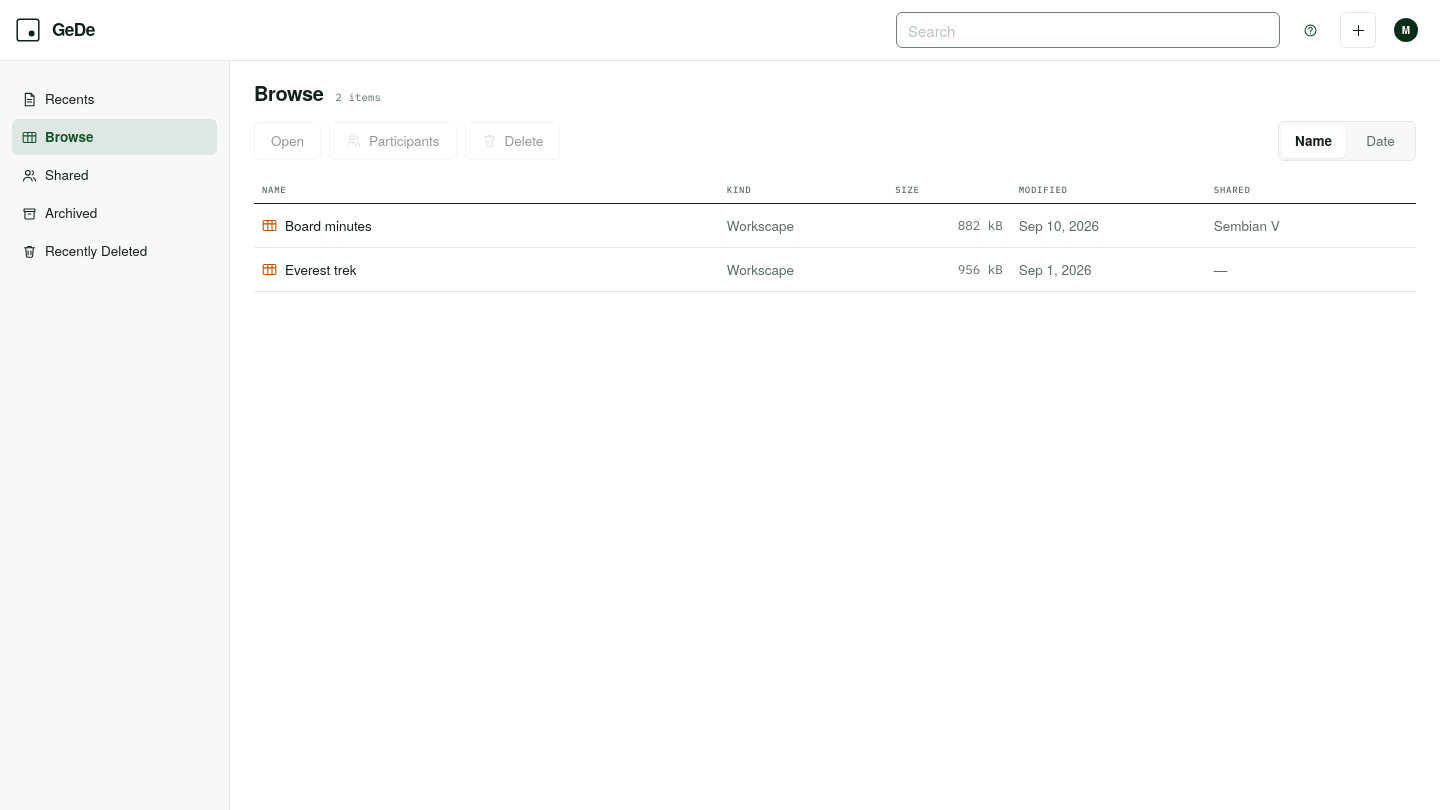
Test case: Library › LIB-05 Browse sorts by Name or Date and the choice persists per user
Expected: the text "Everest trek" is shown, [285,259,356,280]
Step 1. Click the radio button labelled "Date" → (1380, 141), box [1348,124,1413,158]
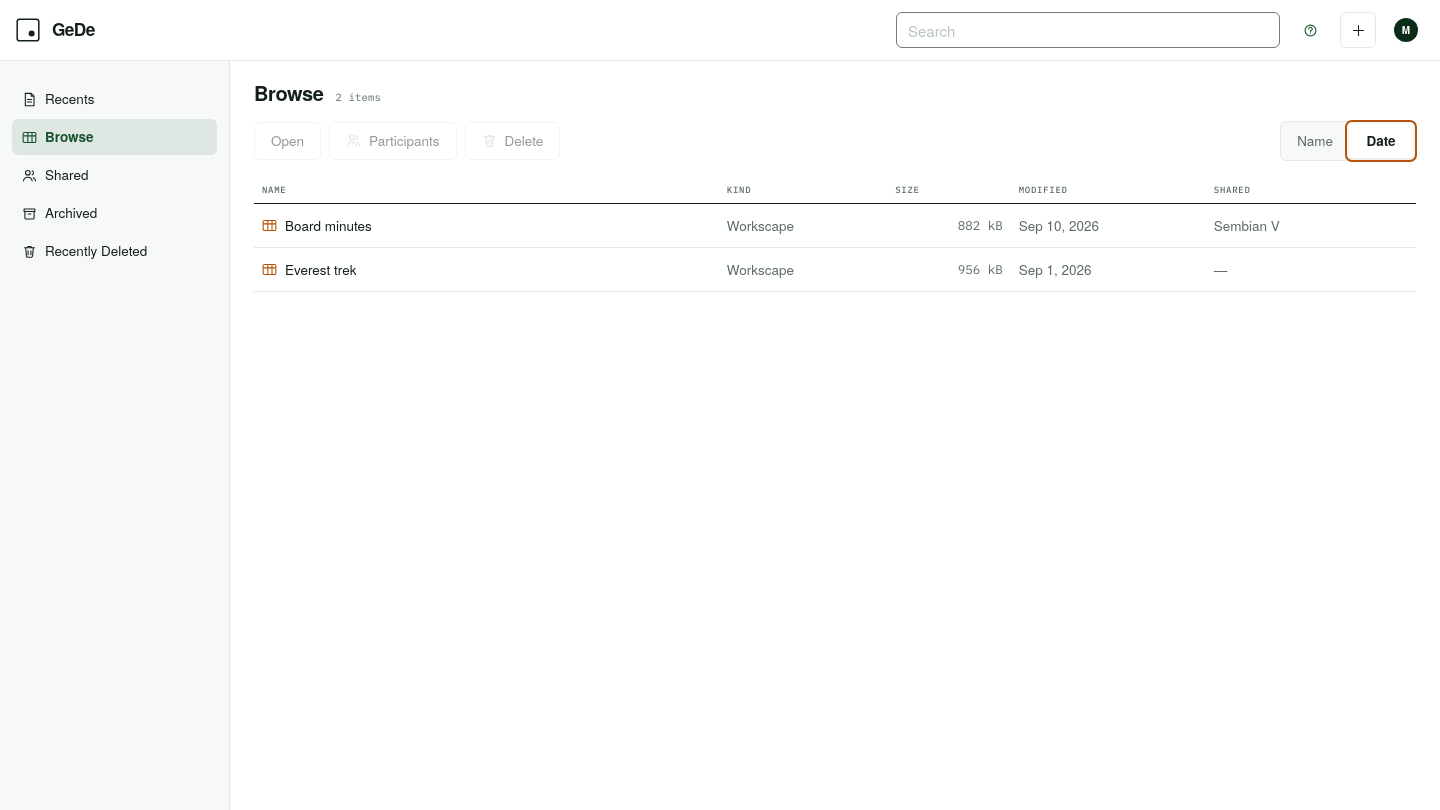
Expected: the row "Board minutes Workscape 882 kB Sep 10, 2026 Sembian V" is shown, [254,204,1416,248]
Step 2. Click the radio button labelled "Name" → (1315, 141), box [1283,124,1347,158]
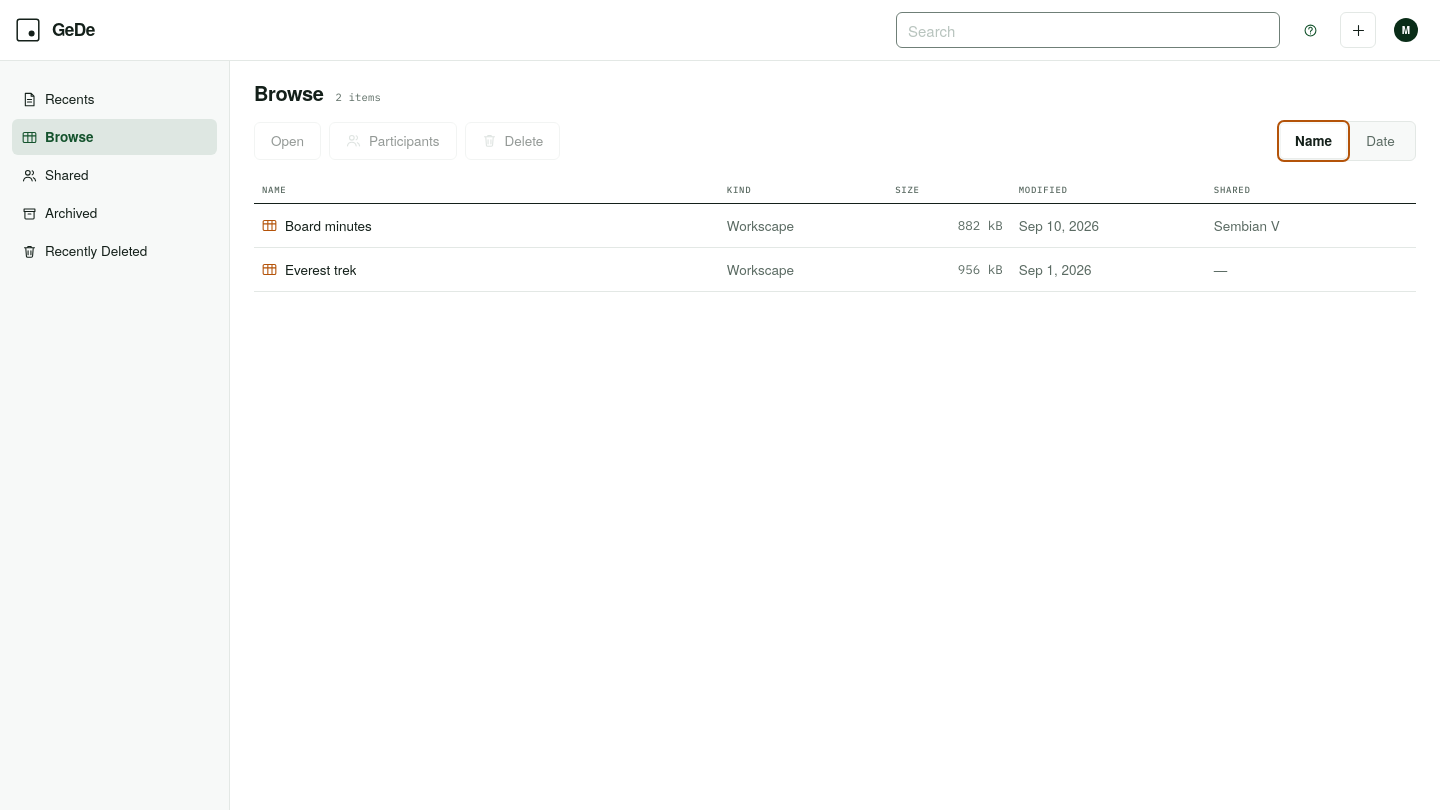
Expected: the radio button labelled "Date" is shown, [1348,124,1413,158]
Recents never offers a sort.
Step 3. Click the button "Recents" → (114, 99), box [12,81,217,117]
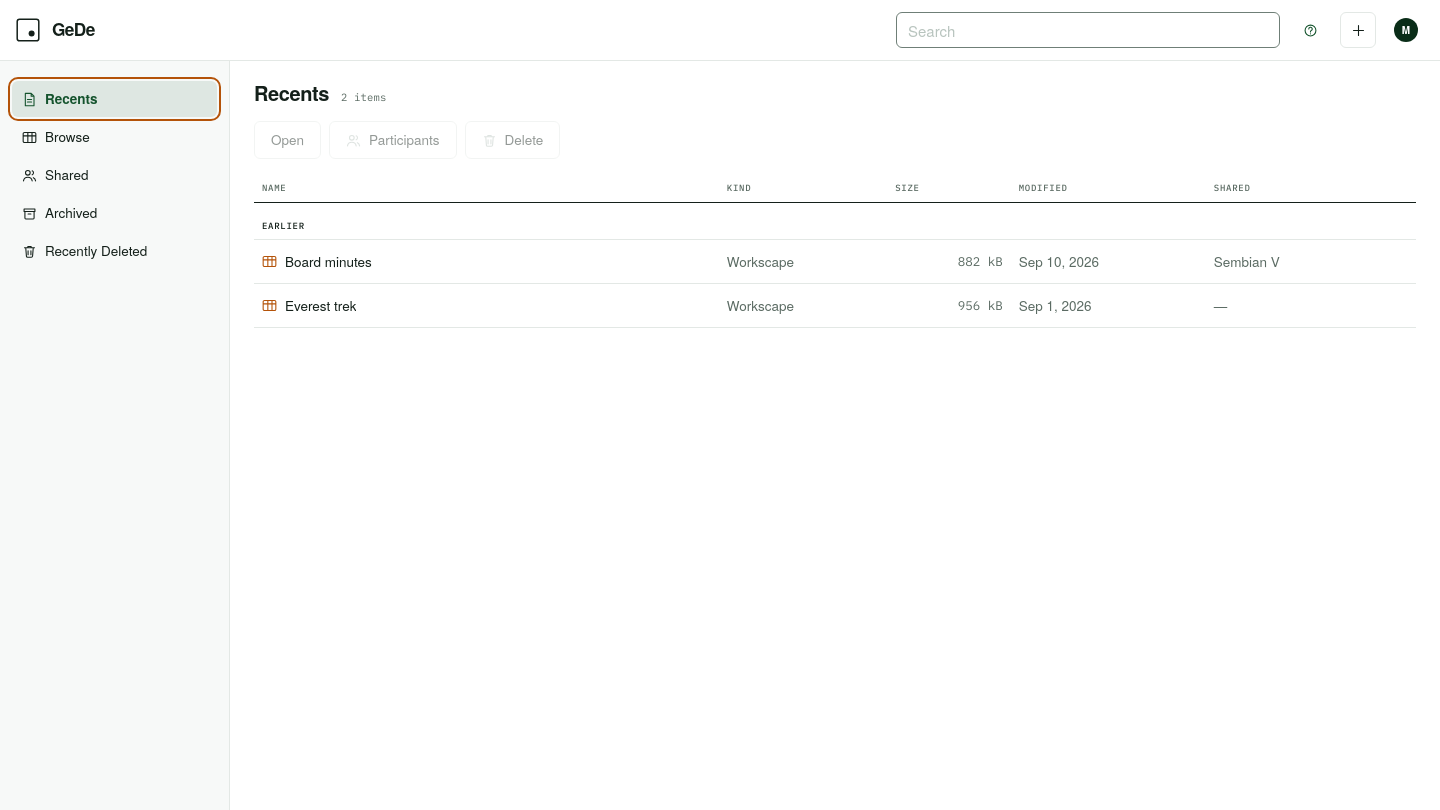
Now the radio button labelled "Date" is gone
